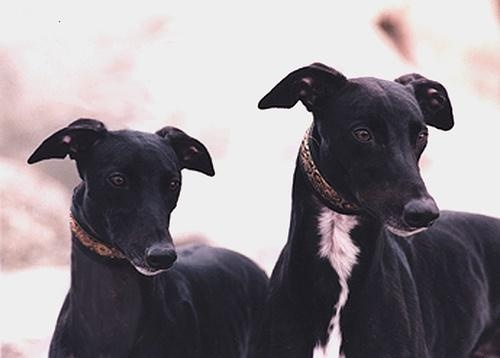dog: (259, 63, 500, 358), (27, 118, 271, 358)
